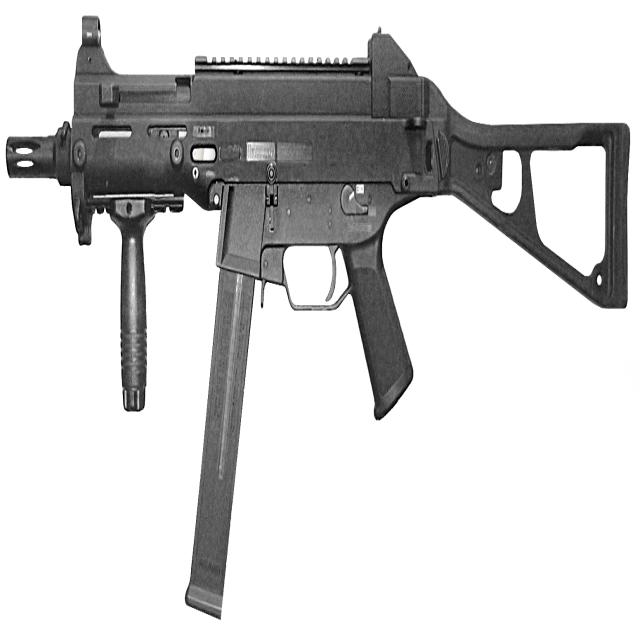Gun: (6, 20, 636, 634)
